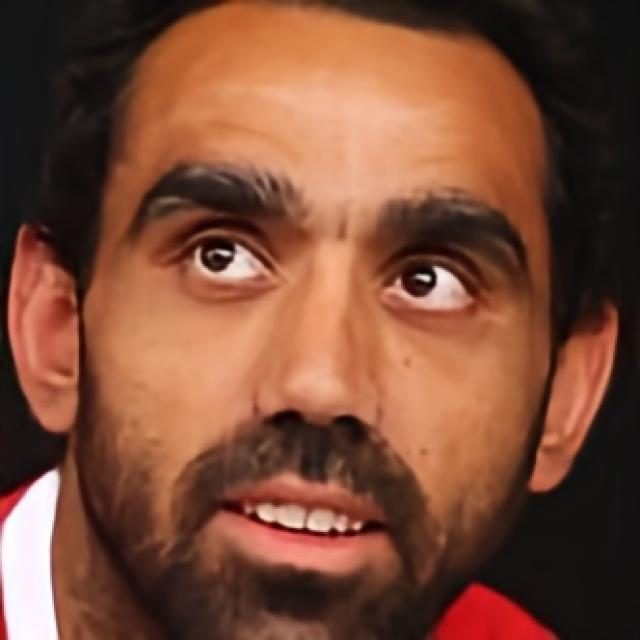surprise: (76, 3, 552, 640)
